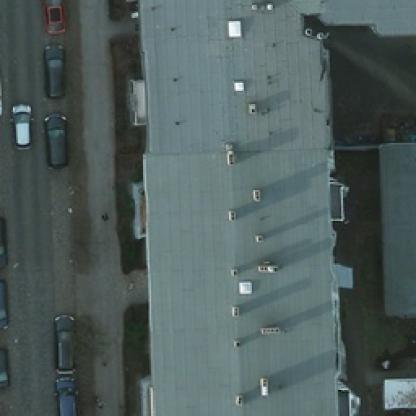car: (49, 317, 75, 369), (40, 43, 64, 98), (44, 112, 66, 163), (10, 102, 31, 146), (39, 0, 63, 36), (0, 344, 10, 388), (0, 280, 8, 328), (0, 213, 5, 266)
